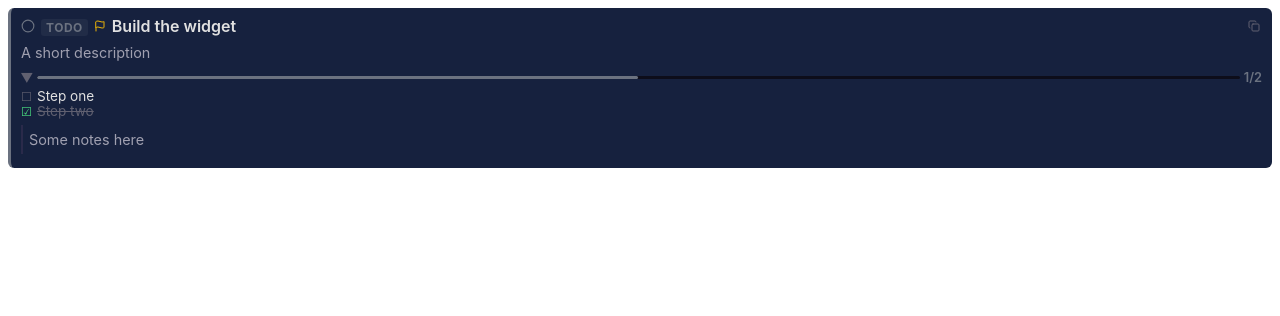
TaskCard edit-in-place › notes field › clicking notes text enters edit mode
Step 1. Click the text "Some notes here" → (642, 139), box [21, 125, 1262, 154]
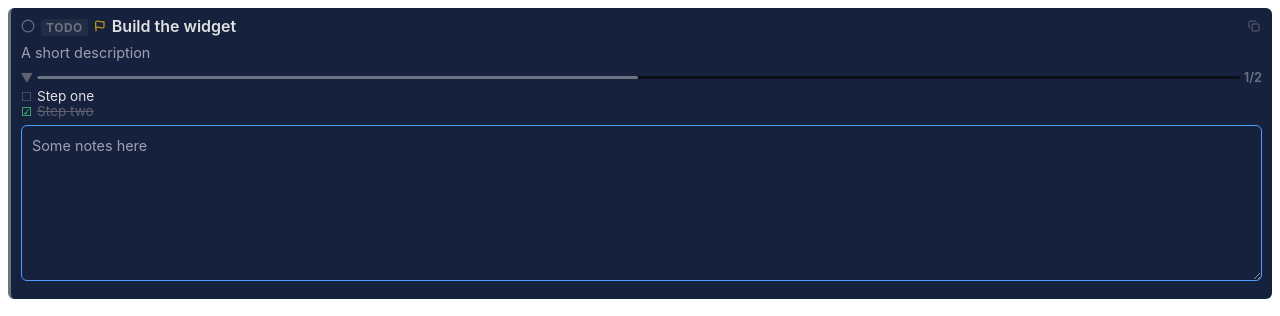
Now the text box holds "Some notes here", box [21, 125, 1262, 281]
